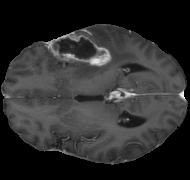Edema: (49, 28, 137, 79)
EnhancingTumors: (47, 32, 110, 66)
Necrosis: (52, 33, 104, 59)
